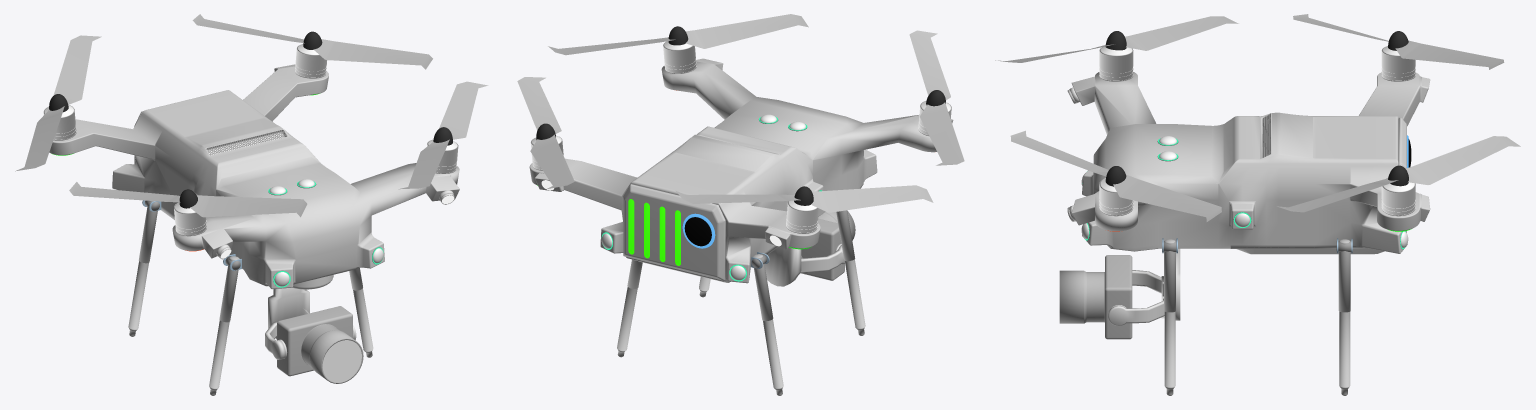
The model's file is drone.gltf.
3 renders of one model, left to right at view 1: azimuth 30°, elevation 25°; view 2: azimuth 150°, elevation 25°; view 3: azimuth 270°, elevation 25°, orthographic. The views are drawn at different scales.
Visible parts, largest first — view 1: Plane, Plane.006, Plane.003, Plane.002, Plane.004, Plane.005, Circle, Circle.008, Circle.011, Plane.007, Circle.005, Circle.021 (+5 smaller); view 2: Plane, Plane.001, Plane.002, Plane.003, Plane.005, Plane.004, Plane.006, Circle.011, Circle.008, Circle, Circle.002, Circle.022 (+3 smaller); view 3: Plane, Plane.006, Plane.004, Plane.005, Plane.003, Plane.002, Circle.002, Circle.005, Circle.024, Circle.020, Circle.021, Circle.019 (+1 smaller).
Boxes of the visible parts, x1,y1,x2,y2 form: Plane: [49, 64, 459, 289]; Plane.006: [277, 306, 363, 383]; Plane.003: [69, 182, 307, 217]; Plane.002: [15, 35, 101, 171]; Plane.004: [192, 14, 432, 69]; Plane.005: [398, 81, 488, 189]; Circle: [268, 275, 333, 339]; Circle.008: [209, 256, 239, 395]; Circle.011: [128, 201, 157, 336]; Plane.007: [322, 340, 361, 382]; Circle.005: [349, 267, 373, 357]; Circle.021: [295, 44, 327, 78]; Plane: [529, 58, 953, 283]; Plane.001: [623, 184, 725, 280]; Plane.002: [675, 185, 933, 212]; Plane.003: [909, 30, 964, 165]; Plane.005: [548, 14, 808, 55]; Plane.004: [517, 77, 574, 189]; Plane.006: [801, 211, 855, 280]; Circle.011: [753, 254, 783, 395]; Circle.008: [836, 210, 865, 335]; Circle: [764, 247, 801, 286]; Circle.002: [617, 259, 642, 357]; Circle.022: [663, 41, 696, 73]; Plane: [1071, 72, 1430, 254]; Plane.006: [1059, 255, 1132, 339]; Plane.004: [1277, 136, 1520, 212]; Plane.005: [1010, 130, 1221, 221]; Plane.003: [995, 16, 1238, 62]; Plane.002: [1293, 14, 1504, 69]; Circle.002: [1338, 239, 1350, 395]; Circle.005: [1164, 239, 1175, 395]; Circle.024: [1108, 270, 1164, 325]; Circle.020: [1099, 46, 1133, 81]; Circle.021: [1381, 178, 1415, 216]; Circle.019: [1381, 46, 1415, 81].
Size of the model in its own units: 0.8042 by 0.4355 by 0.7949.
